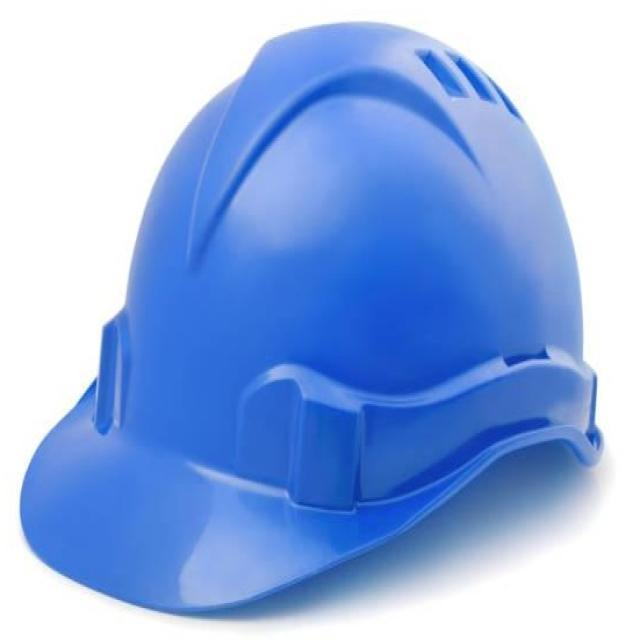helmet: (21, 24, 601, 611)
